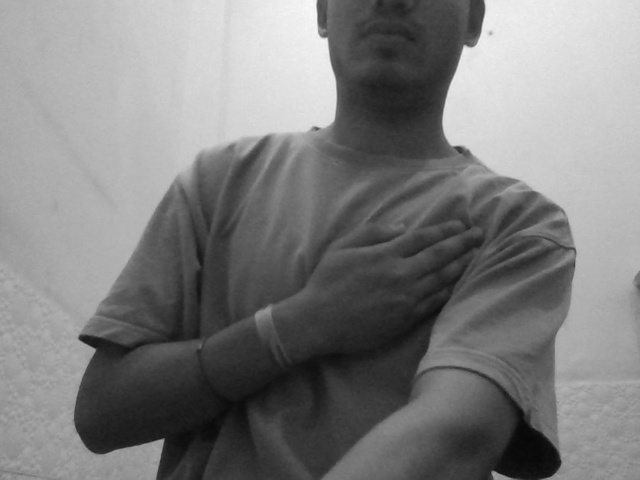Sorry: (279, 196, 534, 413)
